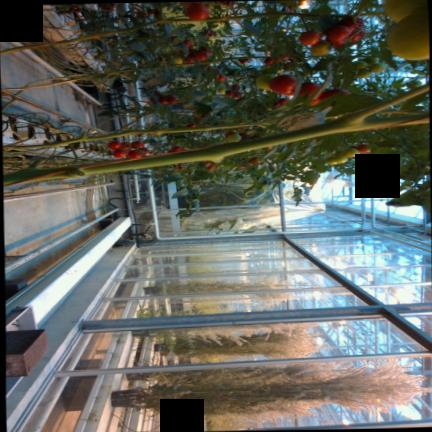6kp_petiole: (301, 84, 427, 137), (290, 12, 314, 29), (223, 15, 247, 30)
MainStem: (2, 114, 428, 186), (0, 18, 192, 54), (1, 126, 208, 151), (0, 73, 100, 90), (198, 12, 319, 20), (197, 56, 265, 64), (374, 110, 407, 113)
tomato: (382, 0, 429, 60), (386, 4, 429, 59), (268, 74, 295, 95), (325, 25, 350, 42), (184, 3, 208, 20), (338, 16, 363, 30), (298, 30, 321, 44), (318, 89, 349, 99), (255, 74, 275, 89), (297, 82, 319, 95), (311, 41, 329, 55), (342, 147, 359, 157), (368, 63, 385, 72), (192, 50, 207, 60), (350, 30, 363, 41), (352, 144, 369, 152), (127, 149, 142, 158), (353, 60, 367, 69), (356, 69, 370, 78), (226, 133, 240, 142), (406, 80, 421, 88), (112, 150, 126, 158), (107, 141, 120, 149), (333, 155, 346, 163), (364, 57, 378, 64), (325, 156, 337, 164), (119, 142, 130, 150), (131, 141, 143, 148), (183, 39, 192, 48), (224, 131, 235, 138), (277, 97, 288, 104), (140, 147, 149, 155), (158, 97, 167, 104), (170, 146, 182, 151), (167, 97, 176, 103), (216, 74, 225, 80), (264, 58, 273, 64), (173, 57, 181, 63), (232, 92, 240, 98), (217, 87, 224, 93), (225, 90, 232, 96), (186, 122, 195, 126), (272, 102, 280, 106)
